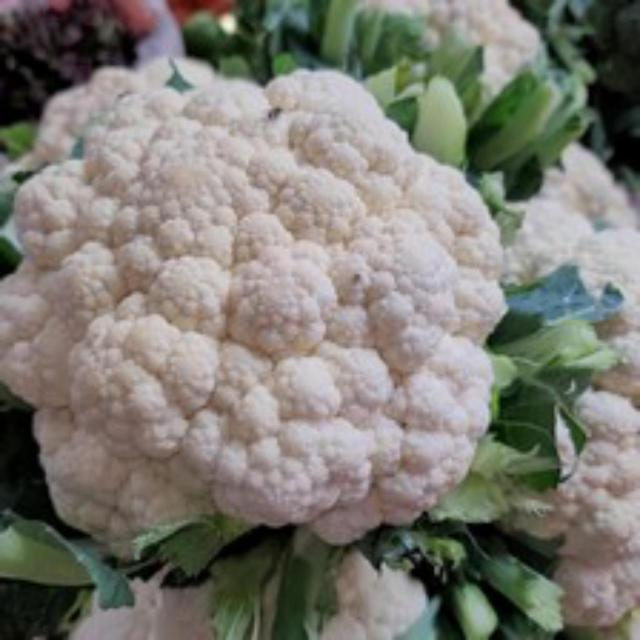cauliflower: (7, 48, 538, 567)
